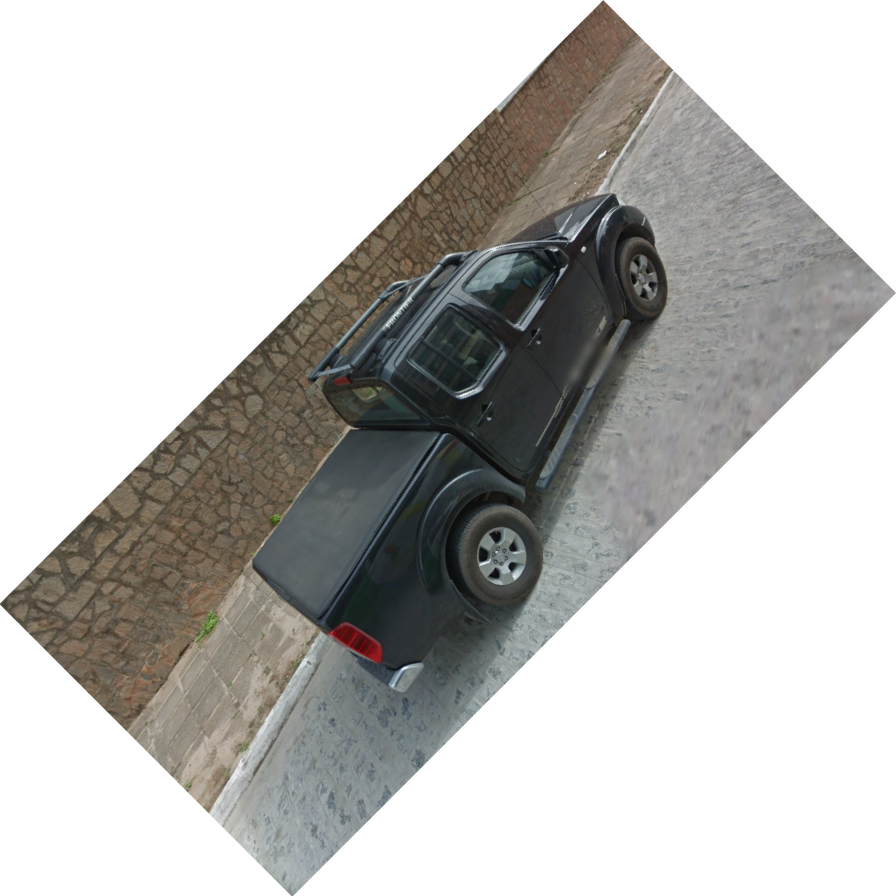car: (249, 192, 669, 699)
